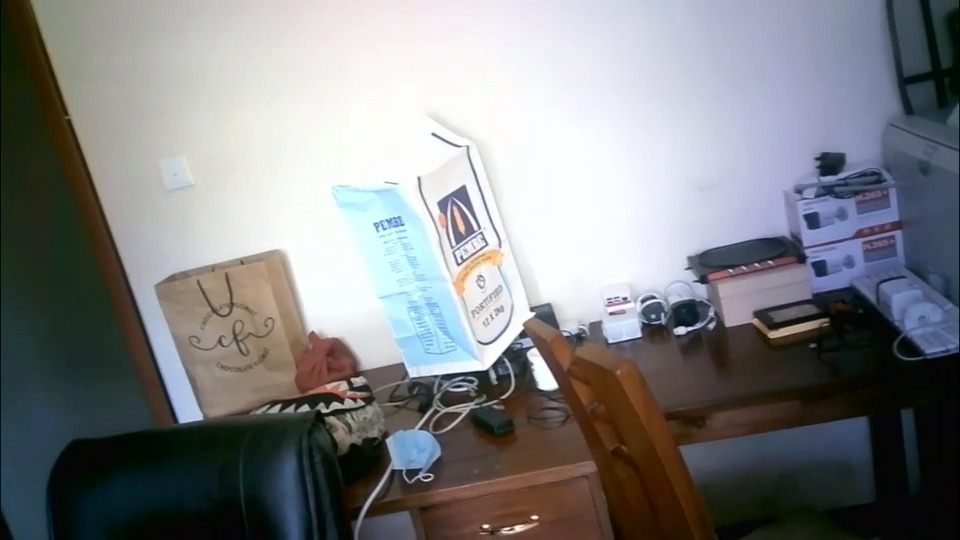wheat_flour_blue_label: (333, 123, 535, 372)
